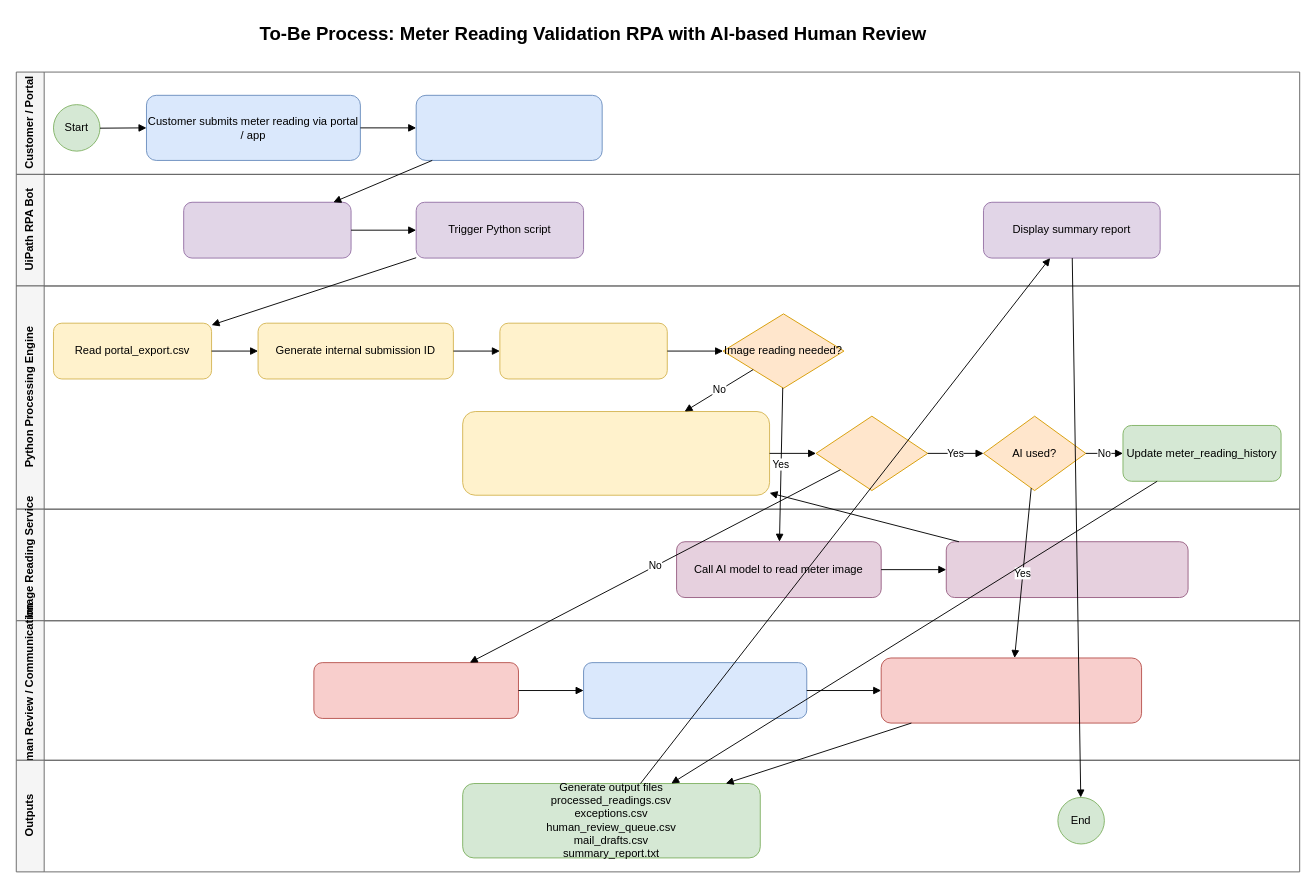
The diagram is 1316 pixels wide and 888 high, and some of its shapes have lost their labels. Here are the shapes that lost their labels. From the top down, the centre of each, then its label:
pixel 508 127: Portal export CSV is available
pixel 267 229: Start automation
pixel 583 350: Connect to SQLite DB
pixel 616 453: Run general validation constraints
pixel 871 453: Constraints met?
pixel 1066 569: Return extracted value, confidence, and image readability
pixel 415 690: Route to human review / exception
pixel 695 690: Create customer / internal mail draft
pixel 1011 690: Human reviews AI result or suspicious case before DB update
